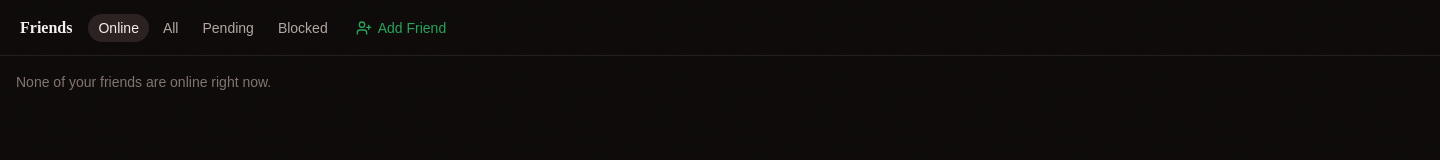
FriendsPage › does not offer accept for a request you sent
The width and height of the screenshot is (1440, 160).
Click the button "Pending".
click(228, 28)  # box [192,14,264,42]
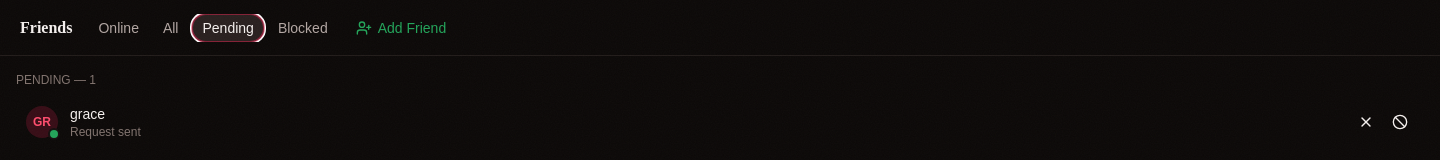
Now the button named "Withdraw request to grace" is shown, box [1352,108,1380,136]
